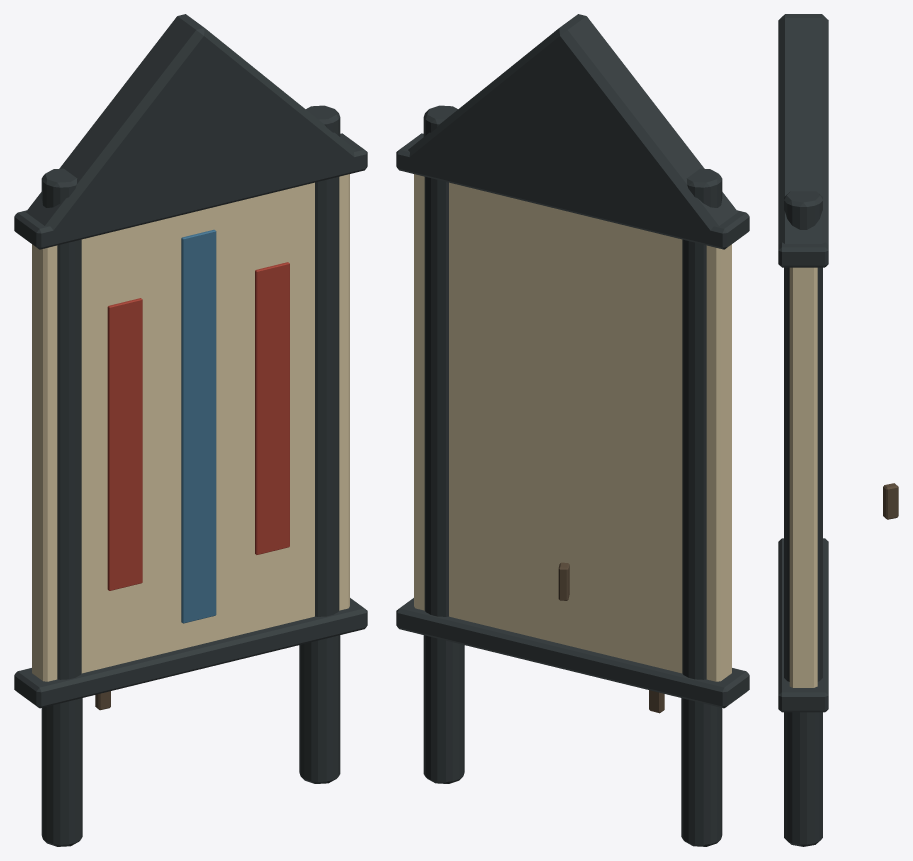
Rendered from runtime.glb.
3 renders of one model, left to right at view 1: azimuth 30°, elevation 25°; view 2: azimuth 150°, elevation 25°; view 3: azimuth 270°, elevation 25°, orthographic. The views are drawn at different scales.
Visible parts, largest first — view 1: eiffel-historic-information-v03_nocol; view 2: eiffel-historic-information-v03_nocol; view 3: eiffel-historic-information-v03_nocol.
Boxes of the visible parts, box(x1,y1,x2,y2) form: eiffel-historic-information-v03_nocol: box(14, 14, 367, 846); eiffel-historic-information-v03_nocol: box(396, 14, 749, 846); eiffel-historic-information-v03_nocol: box(778, 14, 898, 846).
Bounding box in the file's own units: 1.33 × 3.01 × 0.4303.
